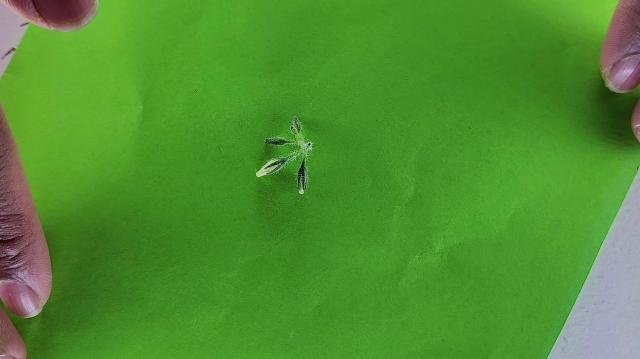Flower Bud: (255, 154, 296, 179), (297, 155, 309, 196), (262, 137, 296, 146)
